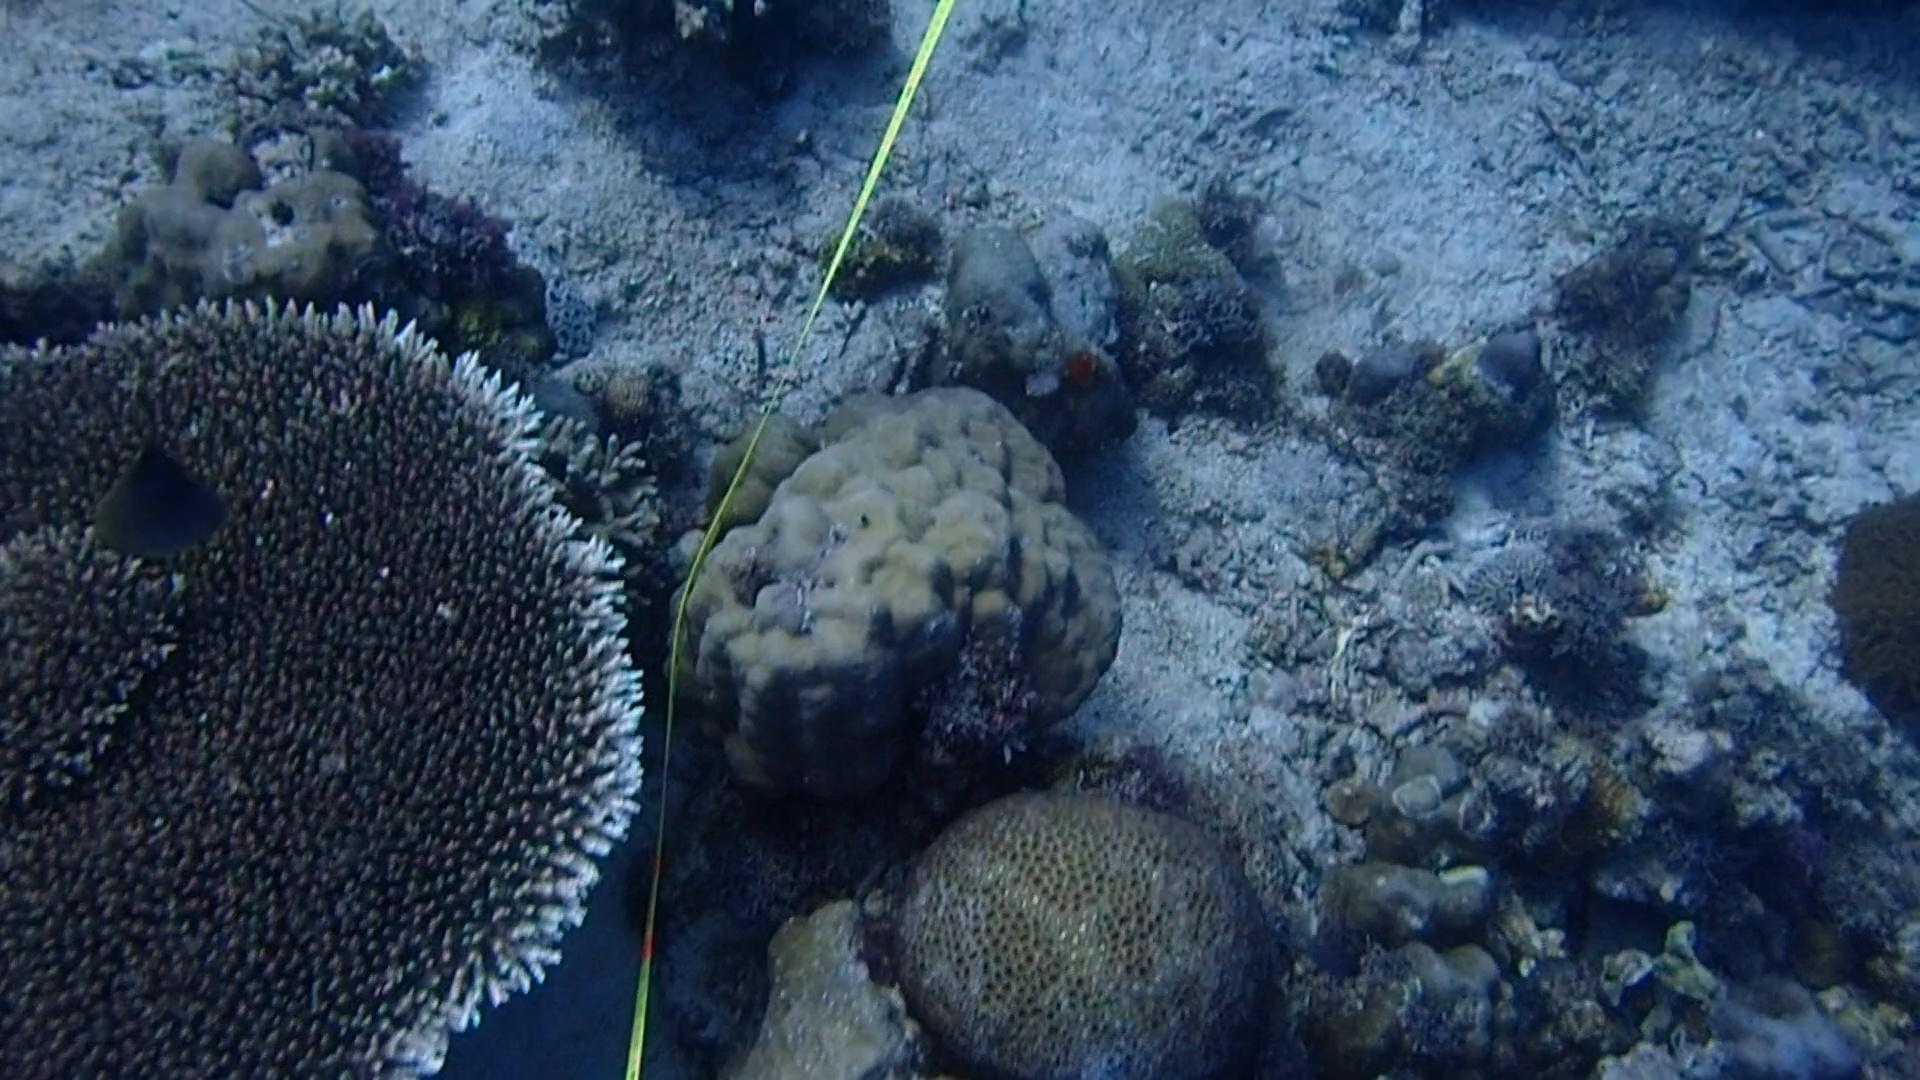Dark Blue Dory: (70, 429, 228, 566)
Light Fish: (1292, 928, 1369, 996)
